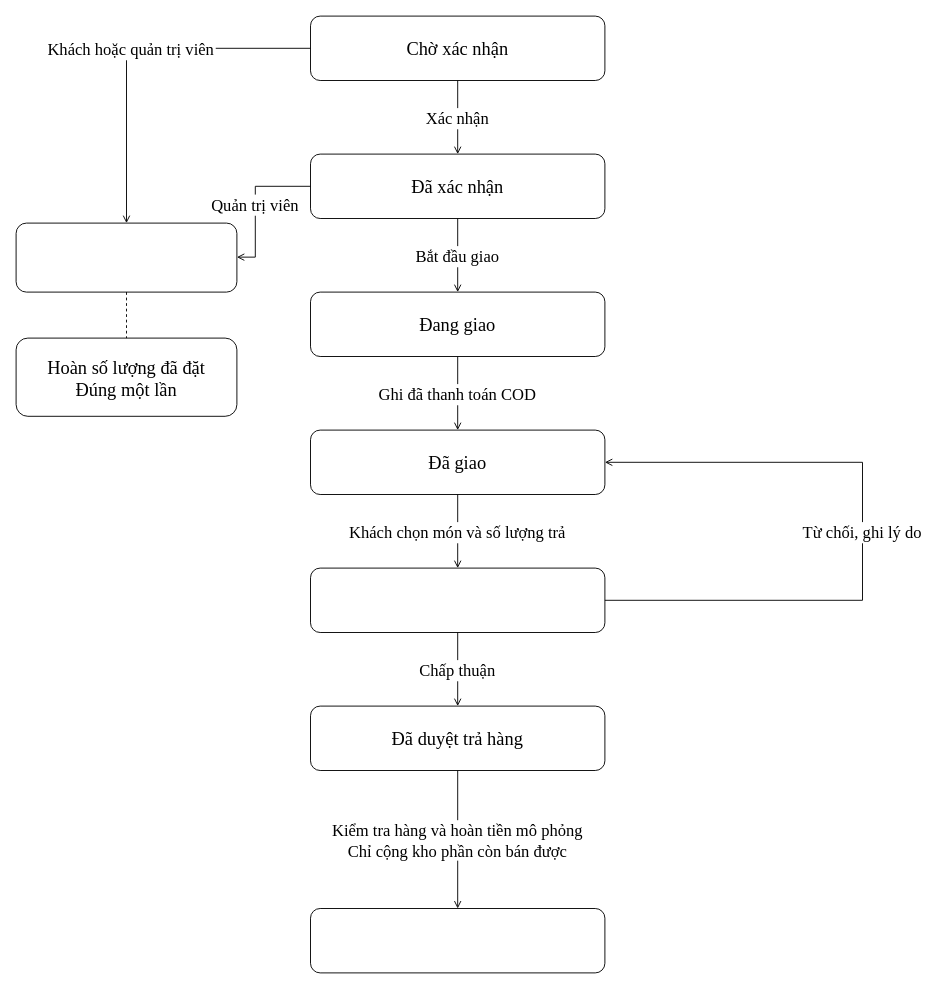
The diagram is 939 pixels wide and 989 high, and some of its shapes have lost their labels. Each missing label, with the centre of its shape:
Chờ duyệt trả hàng: (x=457, y=599)
Đã hủy: (x=126, y=257)
Đã nhận hàng trả: (x=457, y=940)
